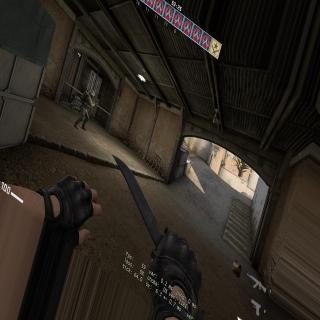CT-Body: (74, 90, 98, 132)
CT-Head: (87, 90, 95, 98)
